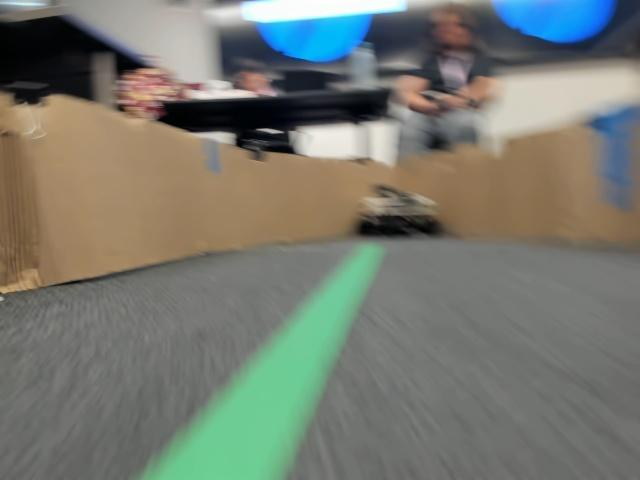Car: (355, 182, 443, 237)
